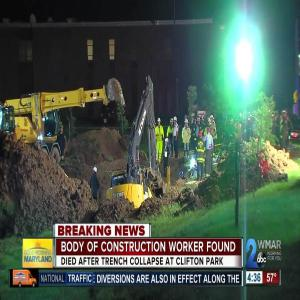red: (198, 130, 203, 140), (207, 127, 212, 135)
white: (94, 166, 98, 176), (165, 138, 170, 146), (174, 116, 178, 125), (211, 114, 215, 122), (158, 118, 162, 125), (185, 119, 189, 126), (171, 118, 174, 127), (192, 113, 195, 121)
